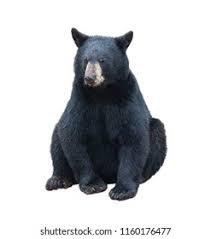bear: (45, 26, 167, 201)
